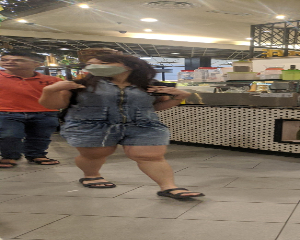stand: (63, 43, 214, 206)
